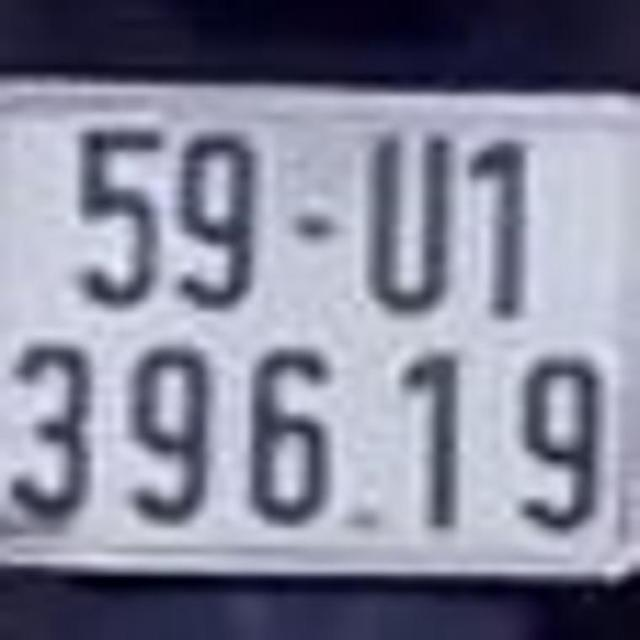1: (466, 130, 537, 322), (397, 343, 469, 530)
3: (5, 338, 95, 522)
5: (72, 120, 166, 310)
6: (247, 338, 335, 526)
9: (514, 344, 604, 536), (126, 340, 211, 525), (175, 126, 259, 311)
U: (362, 128, 457, 317)
